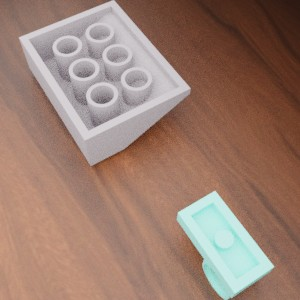lego: (18, 0, 190, 166), (176, 190, 274, 300)
